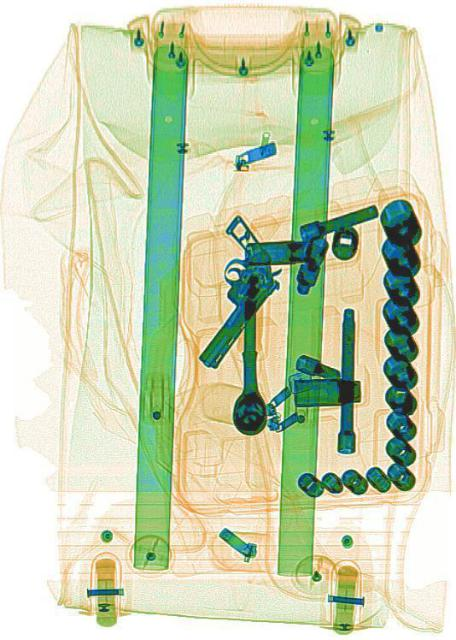Gun: (160, 209, 288, 377)
